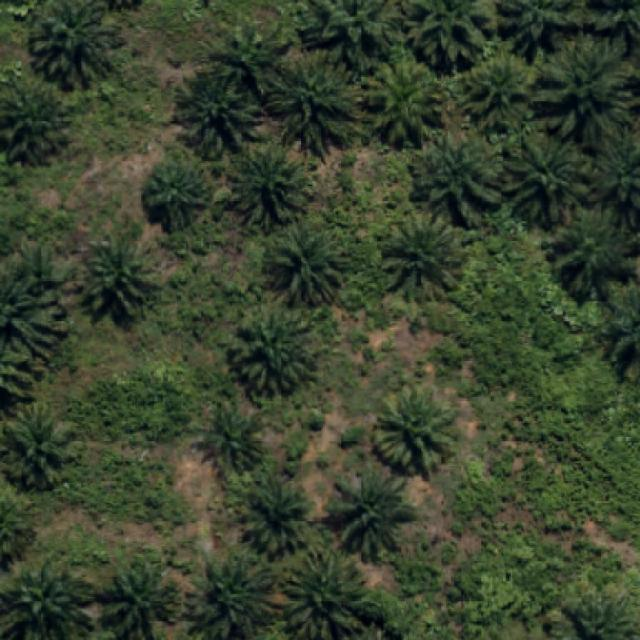Kelapa_Sawit: (535, 27, 640, 155), (264, 54, 368, 164), (547, 198, 640, 309), (498, 120, 590, 232), (407, 122, 504, 228), (378, 206, 472, 306), (226, 302, 322, 398), (372, 382, 460, 482), (368, 47, 450, 153), (182, 554, 283, 640), (173, 68, 259, 166), (1, 397, 87, 492), (76, 229, 162, 323), (328, 470, 414, 564), (226, 142, 316, 230), (95, 551, 183, 640), (260, 219, 348, 307), (206, 16, 292, 98), (458, 44, 540, 130), (241, 471, 310, 560), (200, 396, 268, 482), (141, 156, 205, 235)
